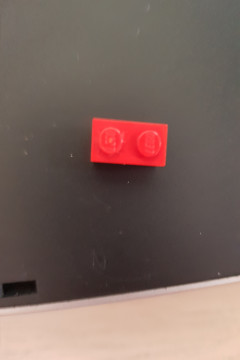1x2 red: (90, 117, 169, 168)
